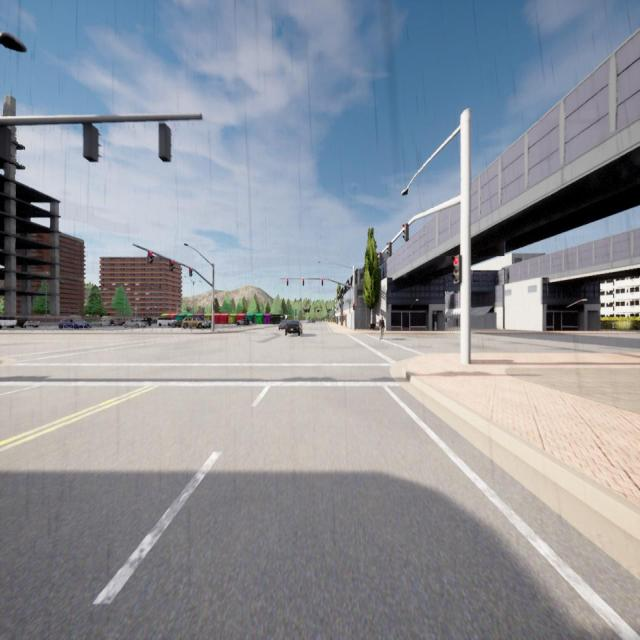Pedestrian: (378, 316, 384, 339)
Vehicle: (57, 316, 90, 330), (16, 316, 40, 329), (284, 319, 302, 336), (123, 318, 146, 329), (183, 317, 204, 329), (0, 314, 17, 328), (91, 318, 110, 327), (157, 317, 176, 326), (236, 318, 249, 326), (114, 317, 126, 325), (143, 317, 152, 326), (278, 320, 286, 330), (204, 320, 212, 328), (174, 321, 182, 328), (311, 318, 315, 324)
traffic_light: (83, 122, 102, 162), (158, 122, 172, 163), (0, 126, 12, 163), (451, 254, 461, 285), (402, 224, 409, 242), (386, 242, 392, 257), (148, 251, 154, 263), (169, 260, 174, 271), (378, 252, 382, 265), (189, 268, 192, 276), (322, 277, 324, 286), (286, 278, 288, 286), (302, 278, 304, 286), (213, 302, 215, 310), (353, 303, 355, 310)
